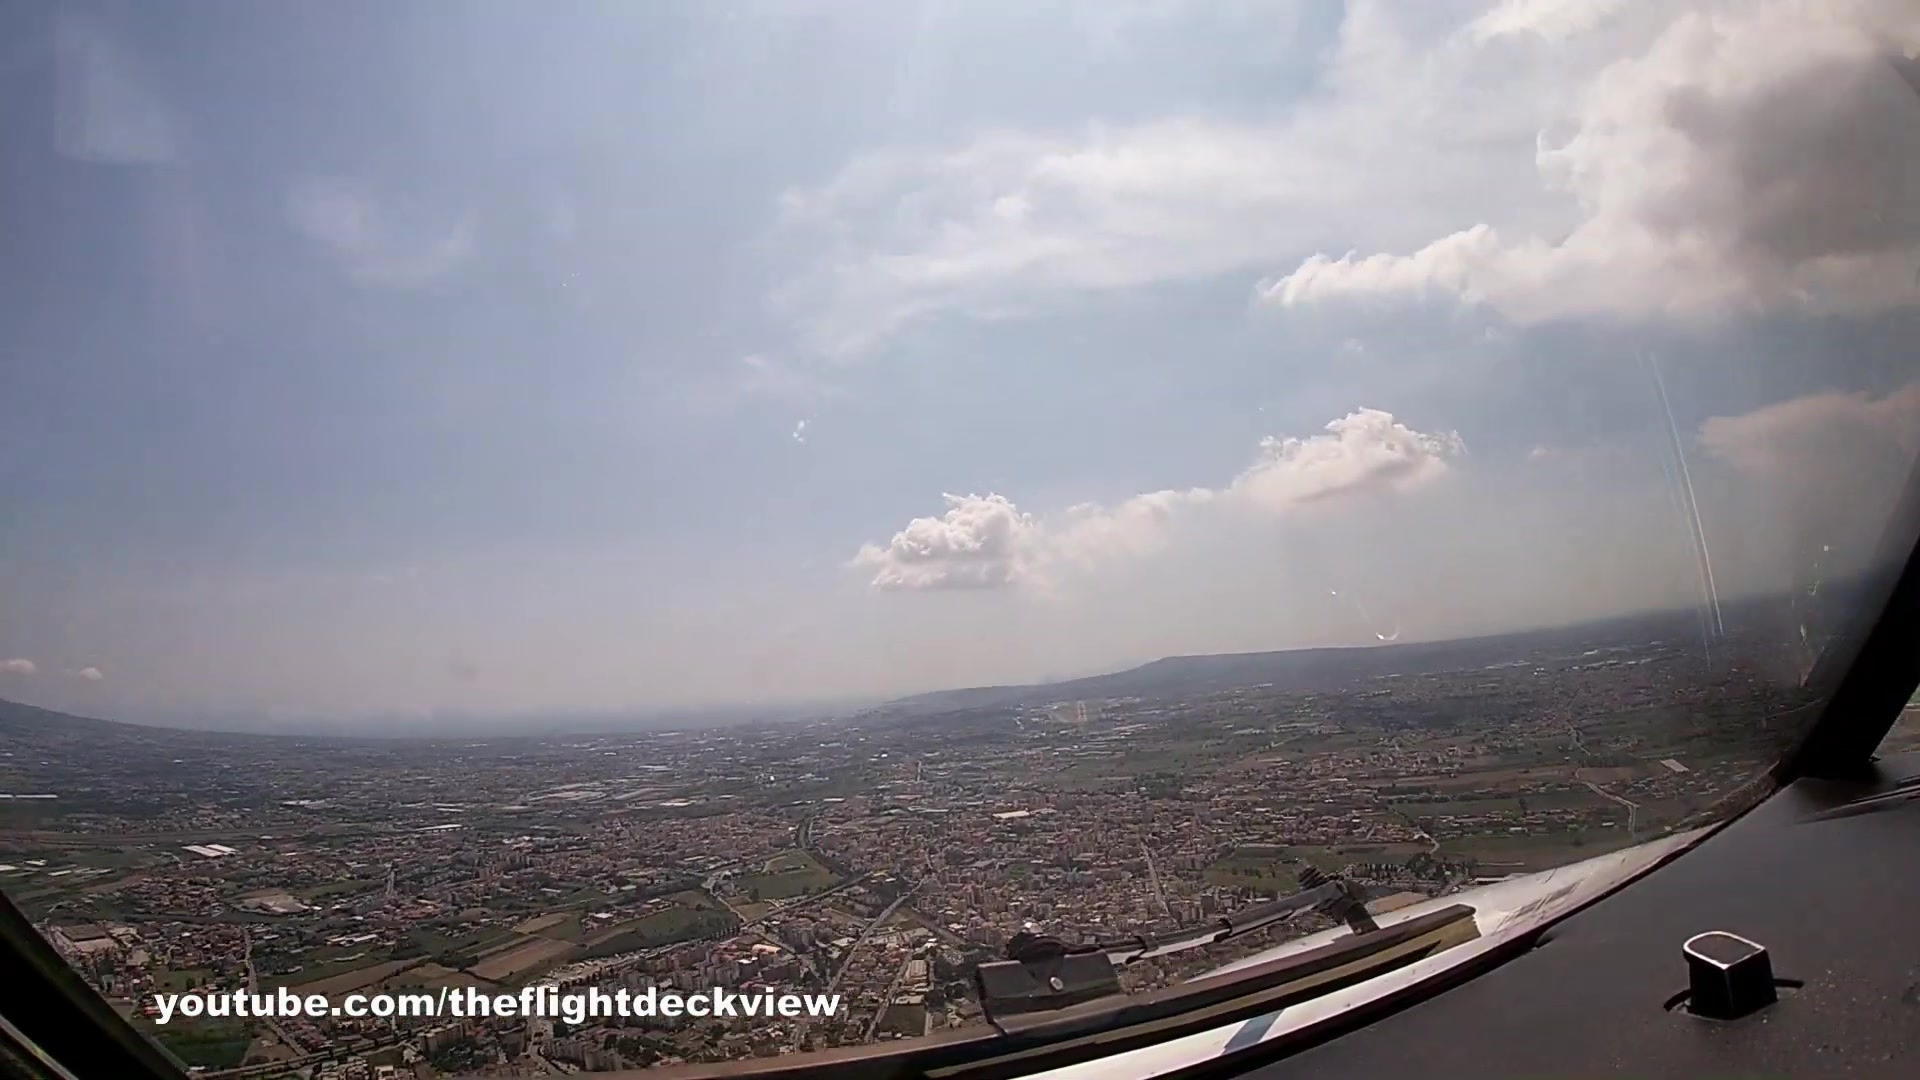runway: (1076, 699, 1087, 724)
